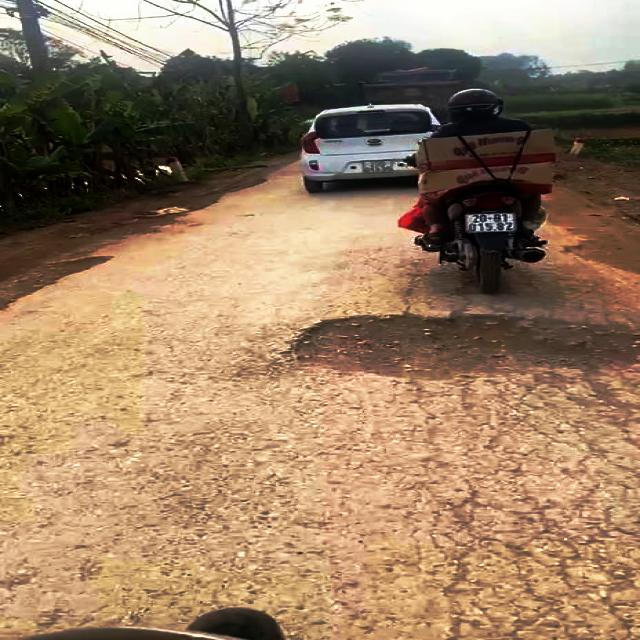pothole: (283, 313, 640, 387), (0, 253, 131, 317)
